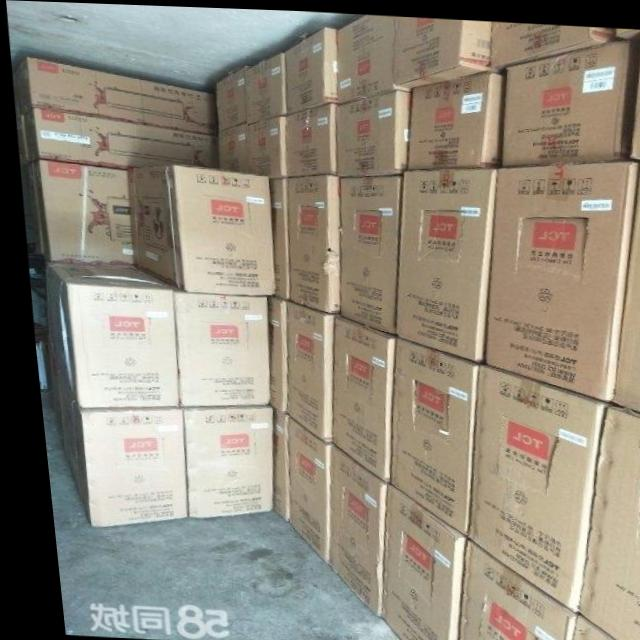box: (476, 156, 635, 398), (455, 358, 602, 608), (39, 350, 177, 526), (389, 162, 494, 359), (38, 260, 170, 406), (562, 398, 640, 640), (124, 163, 267, 294), (378, 332, 470, 534), (498, 35, 632, 161), (11, 57, 215, 133), (366, 479, 454, 640), (157, 281, 261, 405), (17, 158, 126, 276), (444, 534, 562, 640), (13, 106, 215, 166), (321, 313, 389, 480), (316, 441, 377, 615), (402, 63, 502, 167), (333, 171, 397, 332), (171, 404, 262, 515), (602, 154, 640, 411), (277, 297, 328, 442), (391, 13, 491, 84), (334, 11, 410, 102), (283, 172, 332, 313), (275, 411, 320, 561), (332, 86, 409, 172), (489, 17, 614, 65), (282, 22, 336, 111), (282, 101, 333, 174), (242, 49, 282, 122), (244, 112, 284, 176), (259, 293, 280, 412), (264, 174, 284, 297), (213, 66, 244, 129), (625, 30, 640, 154), (557, 608, 609, 640), (262, 404, 276, 520), (214, 121, 244, 170), (615, 23, 640, 35)
